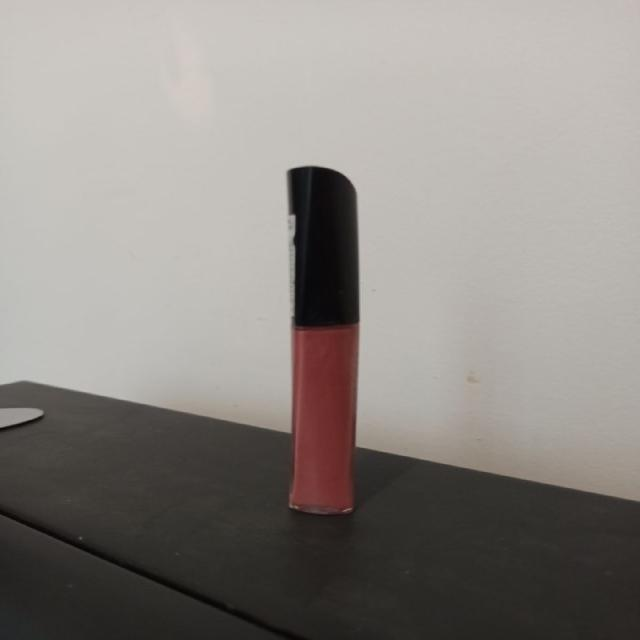lipstick: (285, 165, 360, 515)
